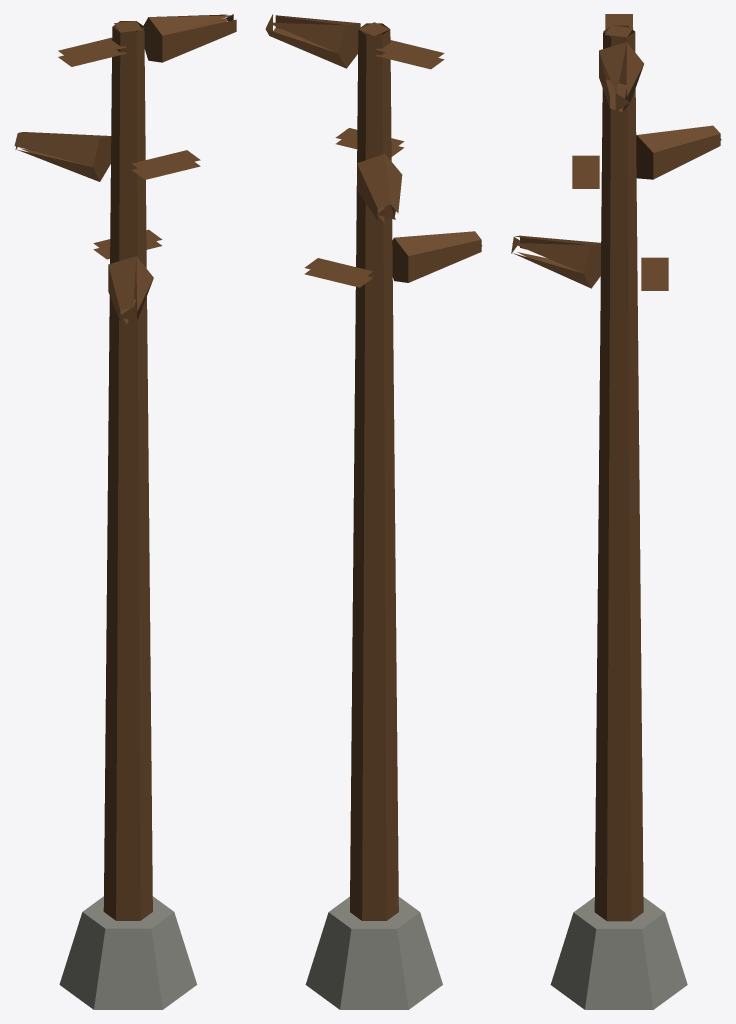
File: prop_sotdae_lod1.glb
3 renders of one model, left to right at view 1: azimuth 30°, elevation 25°; view 2: azimuth 150°, elevation 25°; view 3: azimuth 270°, elevation 25°, orthographic.
Visible parts, largest first — view 1: prop_sotdae_lod1; view 2: prop_sotdae_lod1; view 3: prop_sotdae_lod1.
Boxes of the visible parts, x1=… form: prop_sotdae_lod1: x1=14, y1=14, x2=236, y2=1009; prop_sotdae_lod1: x1=265, y1=14, x2=481, y2=1009; prop_sotdae_lod1: x1=511, y1=14, x2=721, y2=1009.
Size of the model in its own units: 0.869 by 4.6 by 0.9213.
